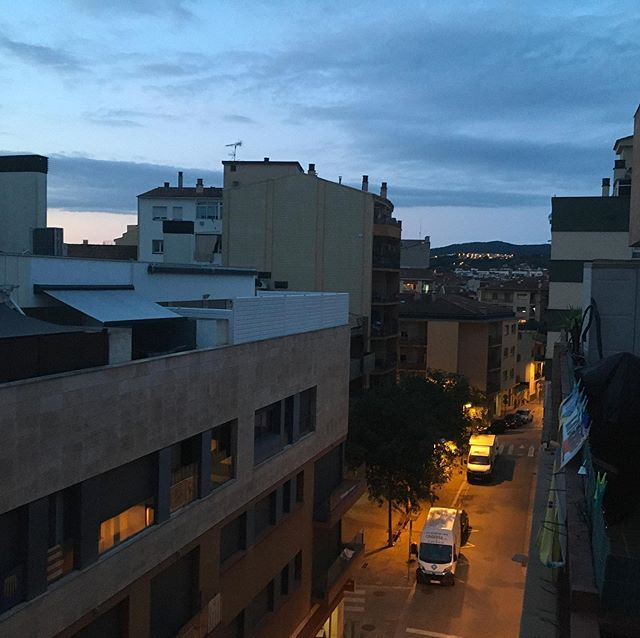building: (1, 301, 349, 638), (229, 166, 413, 433), (552, 182, 640, 638), (403, 297, 525, 431)
sky: (11, 1, 640, 225)
van: (410, 508, 480, 587)
